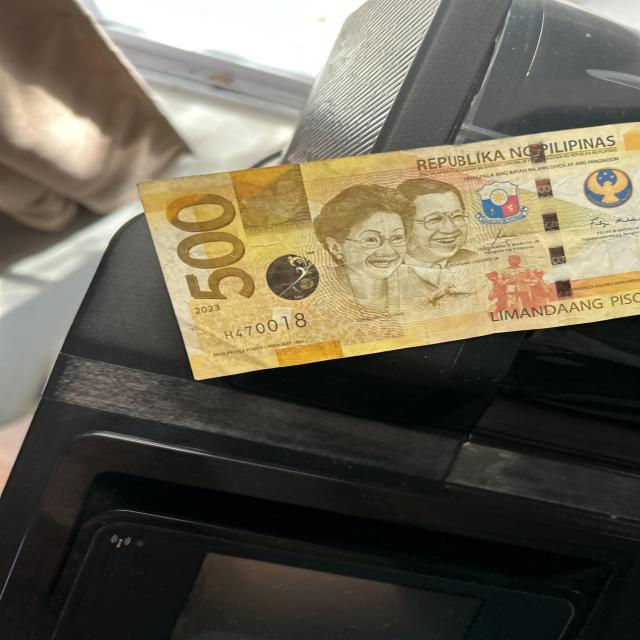concealed_value: (234, 172, 313, 234)
optically_variable_device: (265, 253, 321, 300)
